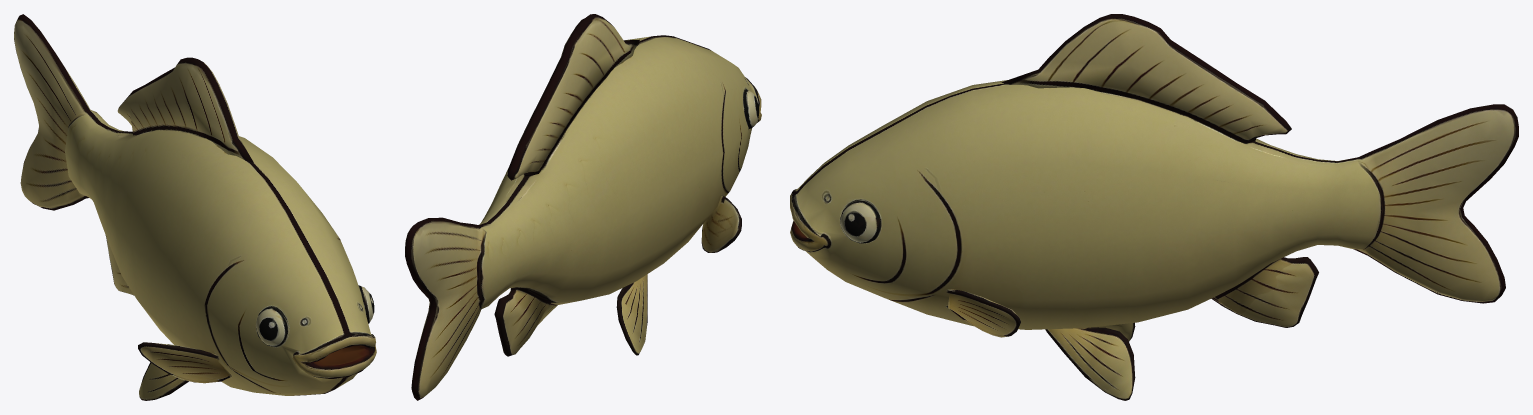
The model's file is crucian_carp_01.fbx.
3 renders of one model, left to right at view 1: azimuth 30°, elevation 25°; view 2: azimuth 150°, elevation 25°; view 3: azimuth 270°, elevation 25°, orthographic. The views are drawn at different scales.
Visible parts, largest first — view 1: crucian_carp_01; view 2: crucian_carp_01; view 3: crucian_carp_01.
Boxes of the visible parts, box(x1,y1,x2,y2) form: crucian_carp_01: box(14, 14, 376, 400); crucian_carp_01: box(405, 14, 761, 400); crucian_carp_01: box(790, 14, 1518, 400).
Size of the model in its own units: 37.3 by 54.1 by 99.8.
